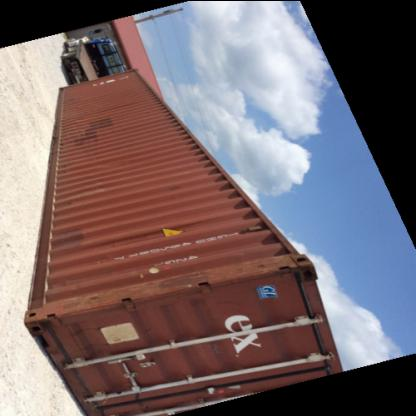Damage: (55, 235, 316, 314)
